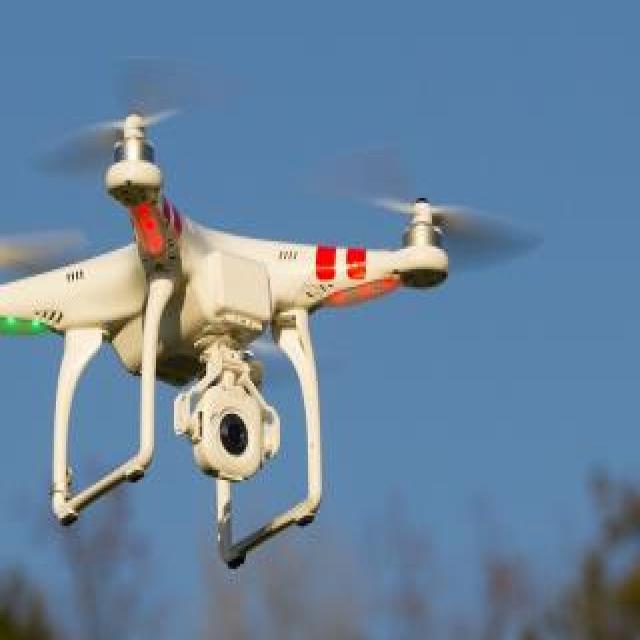drone: (0, 114, 574, 544)
